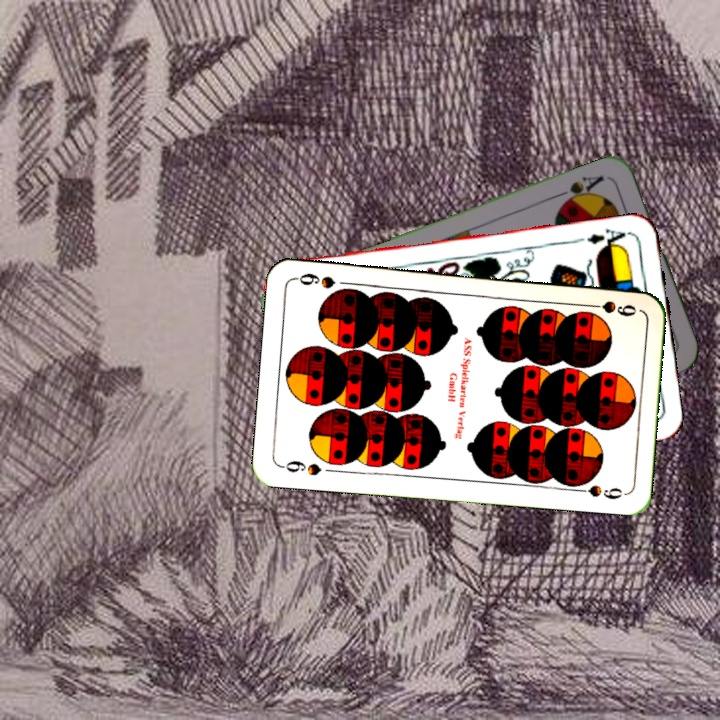EA: (583, 225, 633, 252)
S9: (581, 296, 639, 319), (277, 456, 324, 478)
SA: (555, 171, 607, 208)
